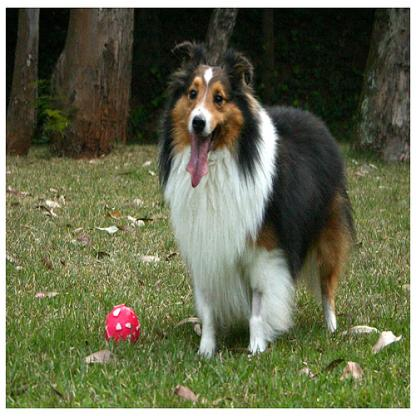Shetland_sheepdog: (156, 40, 357, 359)
